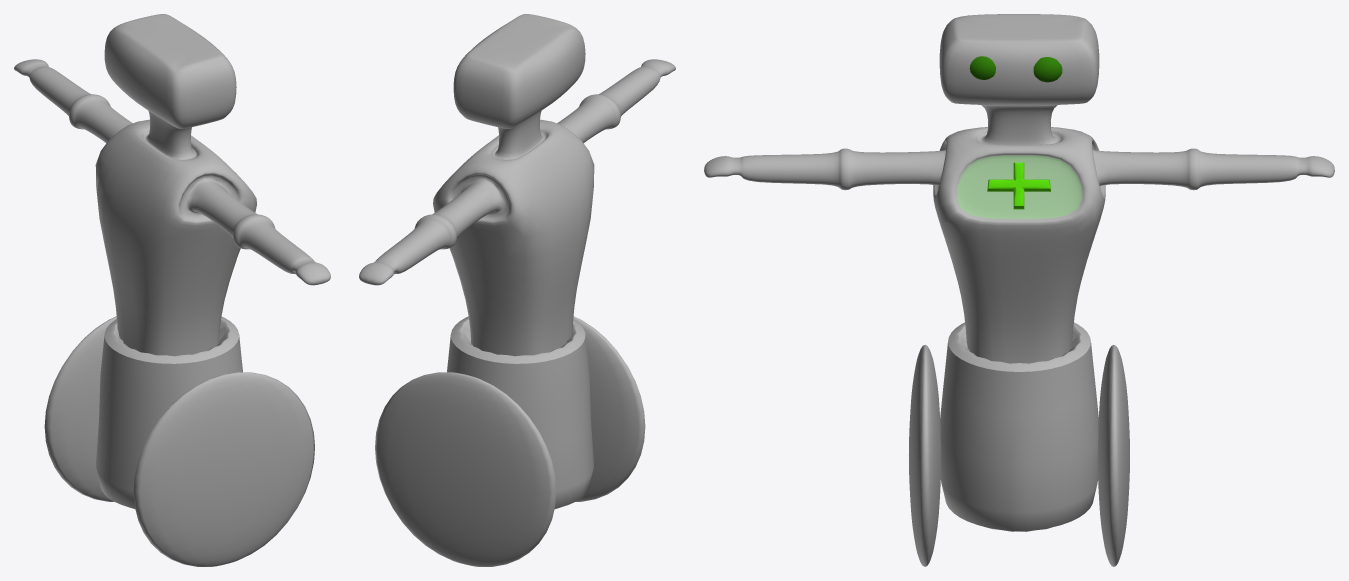
File: roboRodudo.fbx
3 renders of one model, left to right at view 1: azimuth 30°, elevation 25°; view 2: azimuth 150°, elevation 25°; view 3: azimuth 270°, elevation 25°, orthographic. The views are drawn at different scales.
Parts seen in each view (by area): view 1: pSphere3, pSphere5, pCylinder1, pSphere4; view 2: pSphere3, pSphere4, pCylinder1, pSphere5; view 3: pSphere3, pCylinder1, pSphere4, pSphere5.
Boxes of the visible parts, x1=… form: pSphere3: x1=14, y1=14, x2=330, y2=356; pSphere5: x1=133, y1=372, x2=314, y2=566; pCylinder1: x1=96, y1=316, x2=242, y2=508; pSphere4: x1=44, y1=316, x2=116, y2=501; pSphere3: x1=359, y1=14, x2=675, y2=356; pSphere4: x1=375, y1=372, x2=556, y2=566; pCylinder1: x1=447, y1=316, x2=593, y2=508; pSphere5: x1=573, y1=316, x2=645, y2=501; pSphere3: x1=704, y1=14, x2=1334, y2=363; pCylinder1: x1=940, y1=322, x2=1098, y2=531; pSphere4: x1=1097, y1=345, x2=1129, y2=566; pSphere5: x1=909, y1=345, x2=940, y2=566.
Size of the model in its own units: 4.74 by 12.35 by 13.46.
